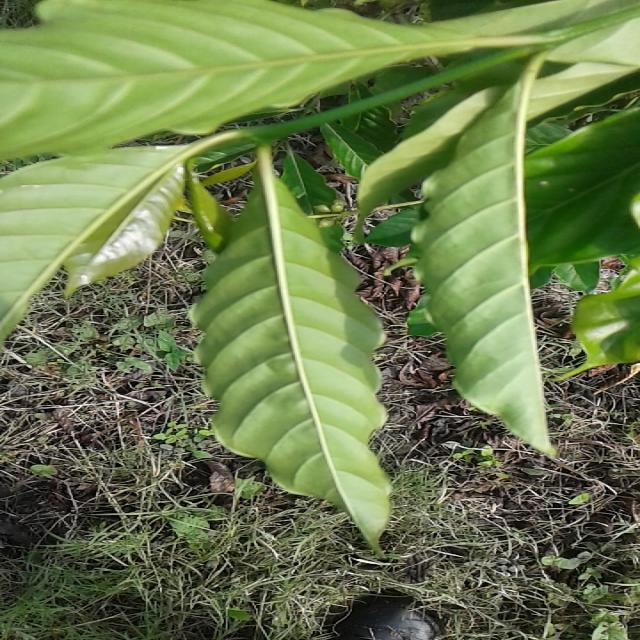Sanas: (185, 146, 393, 554)
